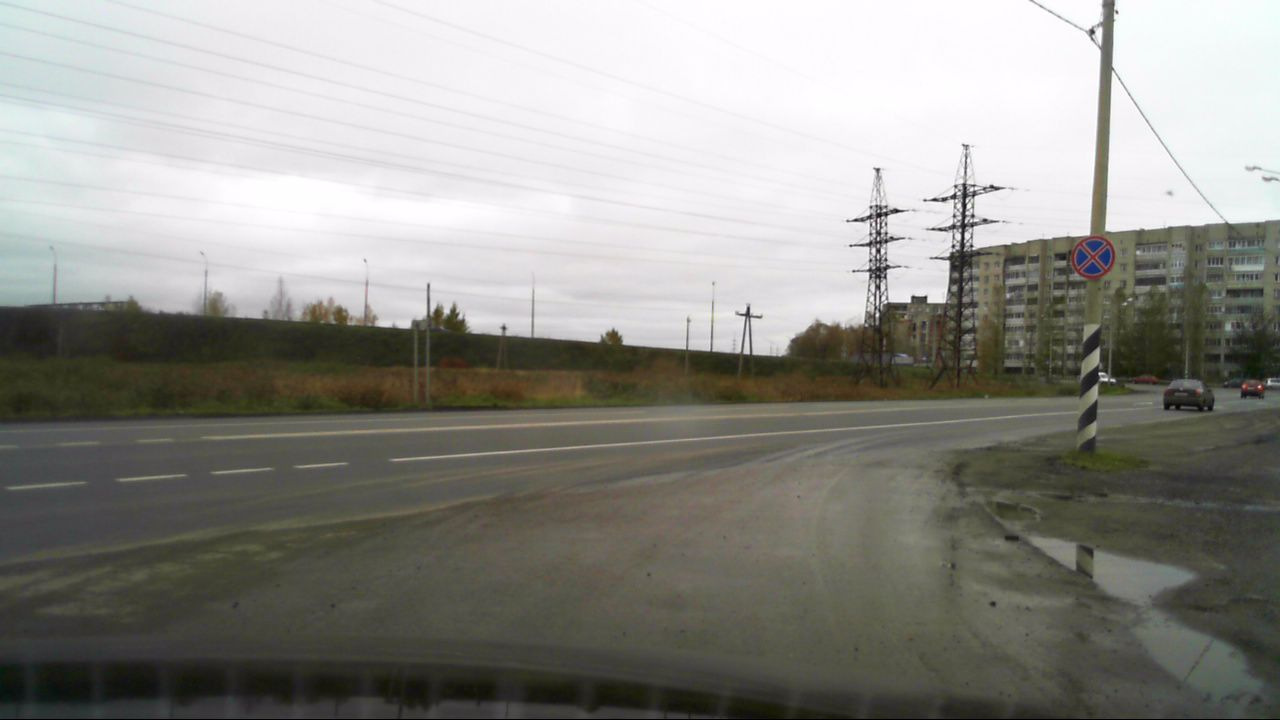No Parking: (1072, 235, 1117, 279)
